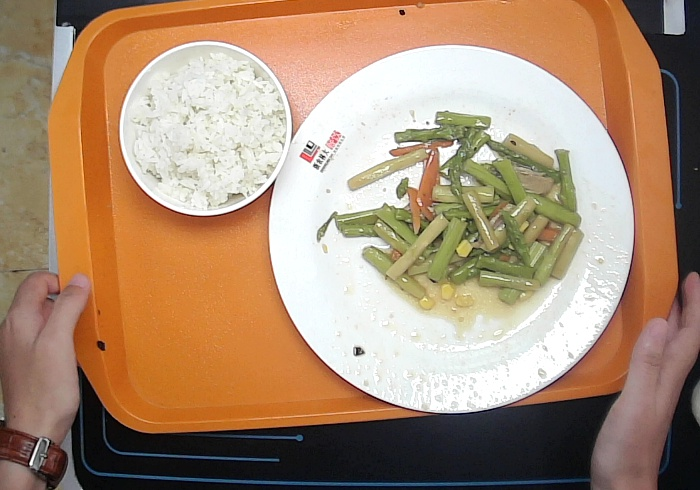ZNLD-Da_Yuan_Pan: (262, 37, 648, 421)
ZNLD-Fan_Wan: (111, 30, 297, 220)
